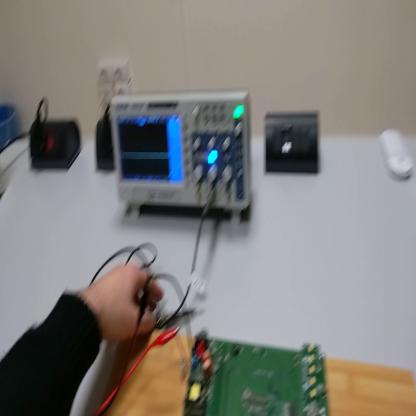hand: (90, 263, 163, 344)
low voltage board: (150, 269, 330, 414)
oscilloscope: (111, 88, 253, 229)
oscilloscope probe tip: (155, 308, 197, 330)
socket: (28, 115, 83, 173), (96, 120, 117, 175)
working area: (101, 331, 416, 416)
